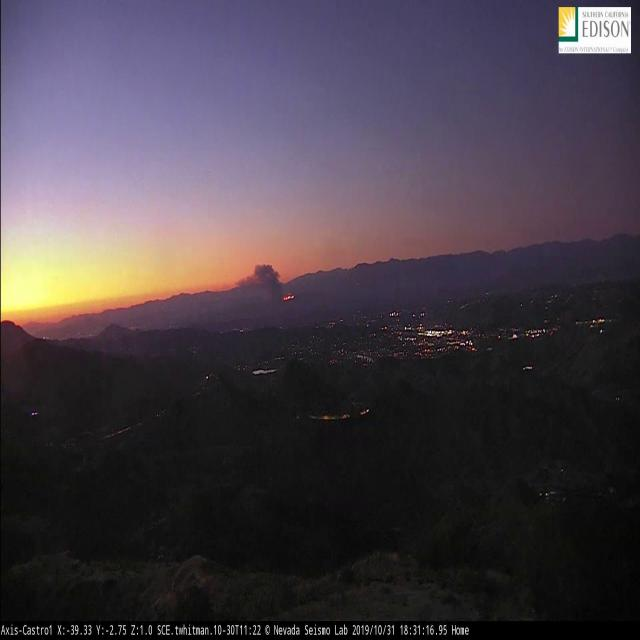smoke: (233, 263, 294, 304)
